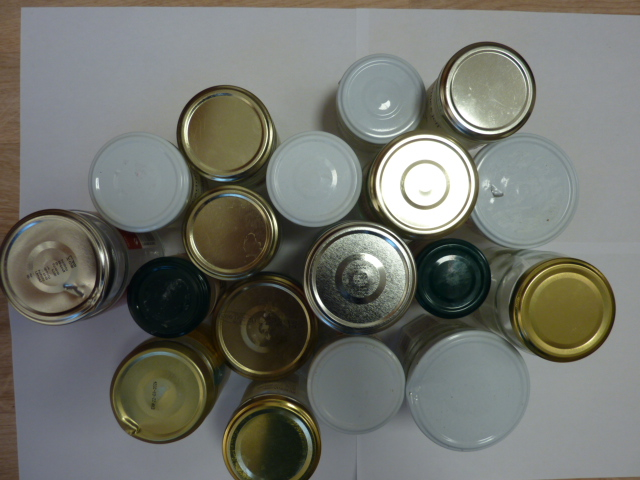damaged: (3, 208, 113, 328), (467, 133, 576, 249)
intact: (215, 279, 313, 379), (127, 254, 209, 337)
